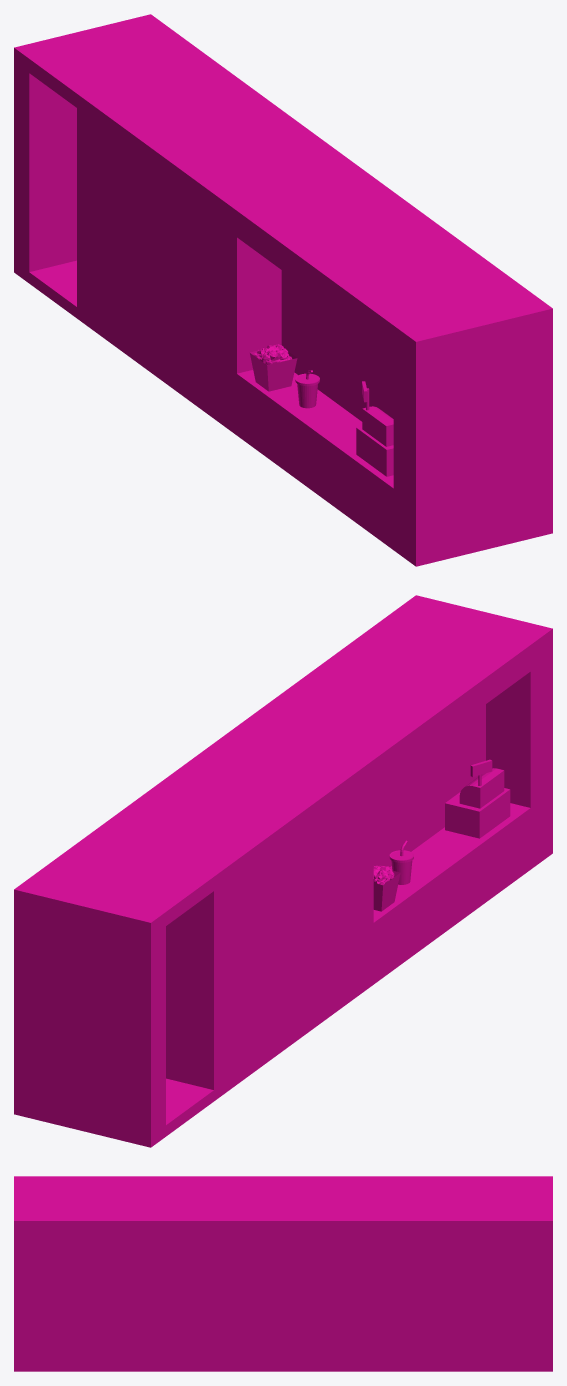
File: Sad Station.fbx
3 views of the same model, one above another, from view 1: azimuth 30°, elevation 25°; view 2: azimuth 150°, elevation 25°; view 3: azimuth 270°, elevation 25° (orthographic). The views are drawn at different scales.
Parts seen in each view (by area): view 1: Wall, Cube.002, Cube, Cone; view 2: Wall, Cube.002, Cube; view 3: Wall.
Boxes of the visible parts, box(x1,y1,x2,y2) form: Wall: box(14, 14, 552, 566); Cube.002: box(356, 381, 393, 476); Cube: box(250, 350, 297, 391); Cone: box(295, 370, 319, 408); Wall: box(14, 595, 552, 1147); Cube.002: box(445, 759, 510, 838); Cube: box(373, 870, 400, 911); Wall: box(14, 1176, 552, 1371).
Size of the model in its own units: 383 by 602 by 1950.
